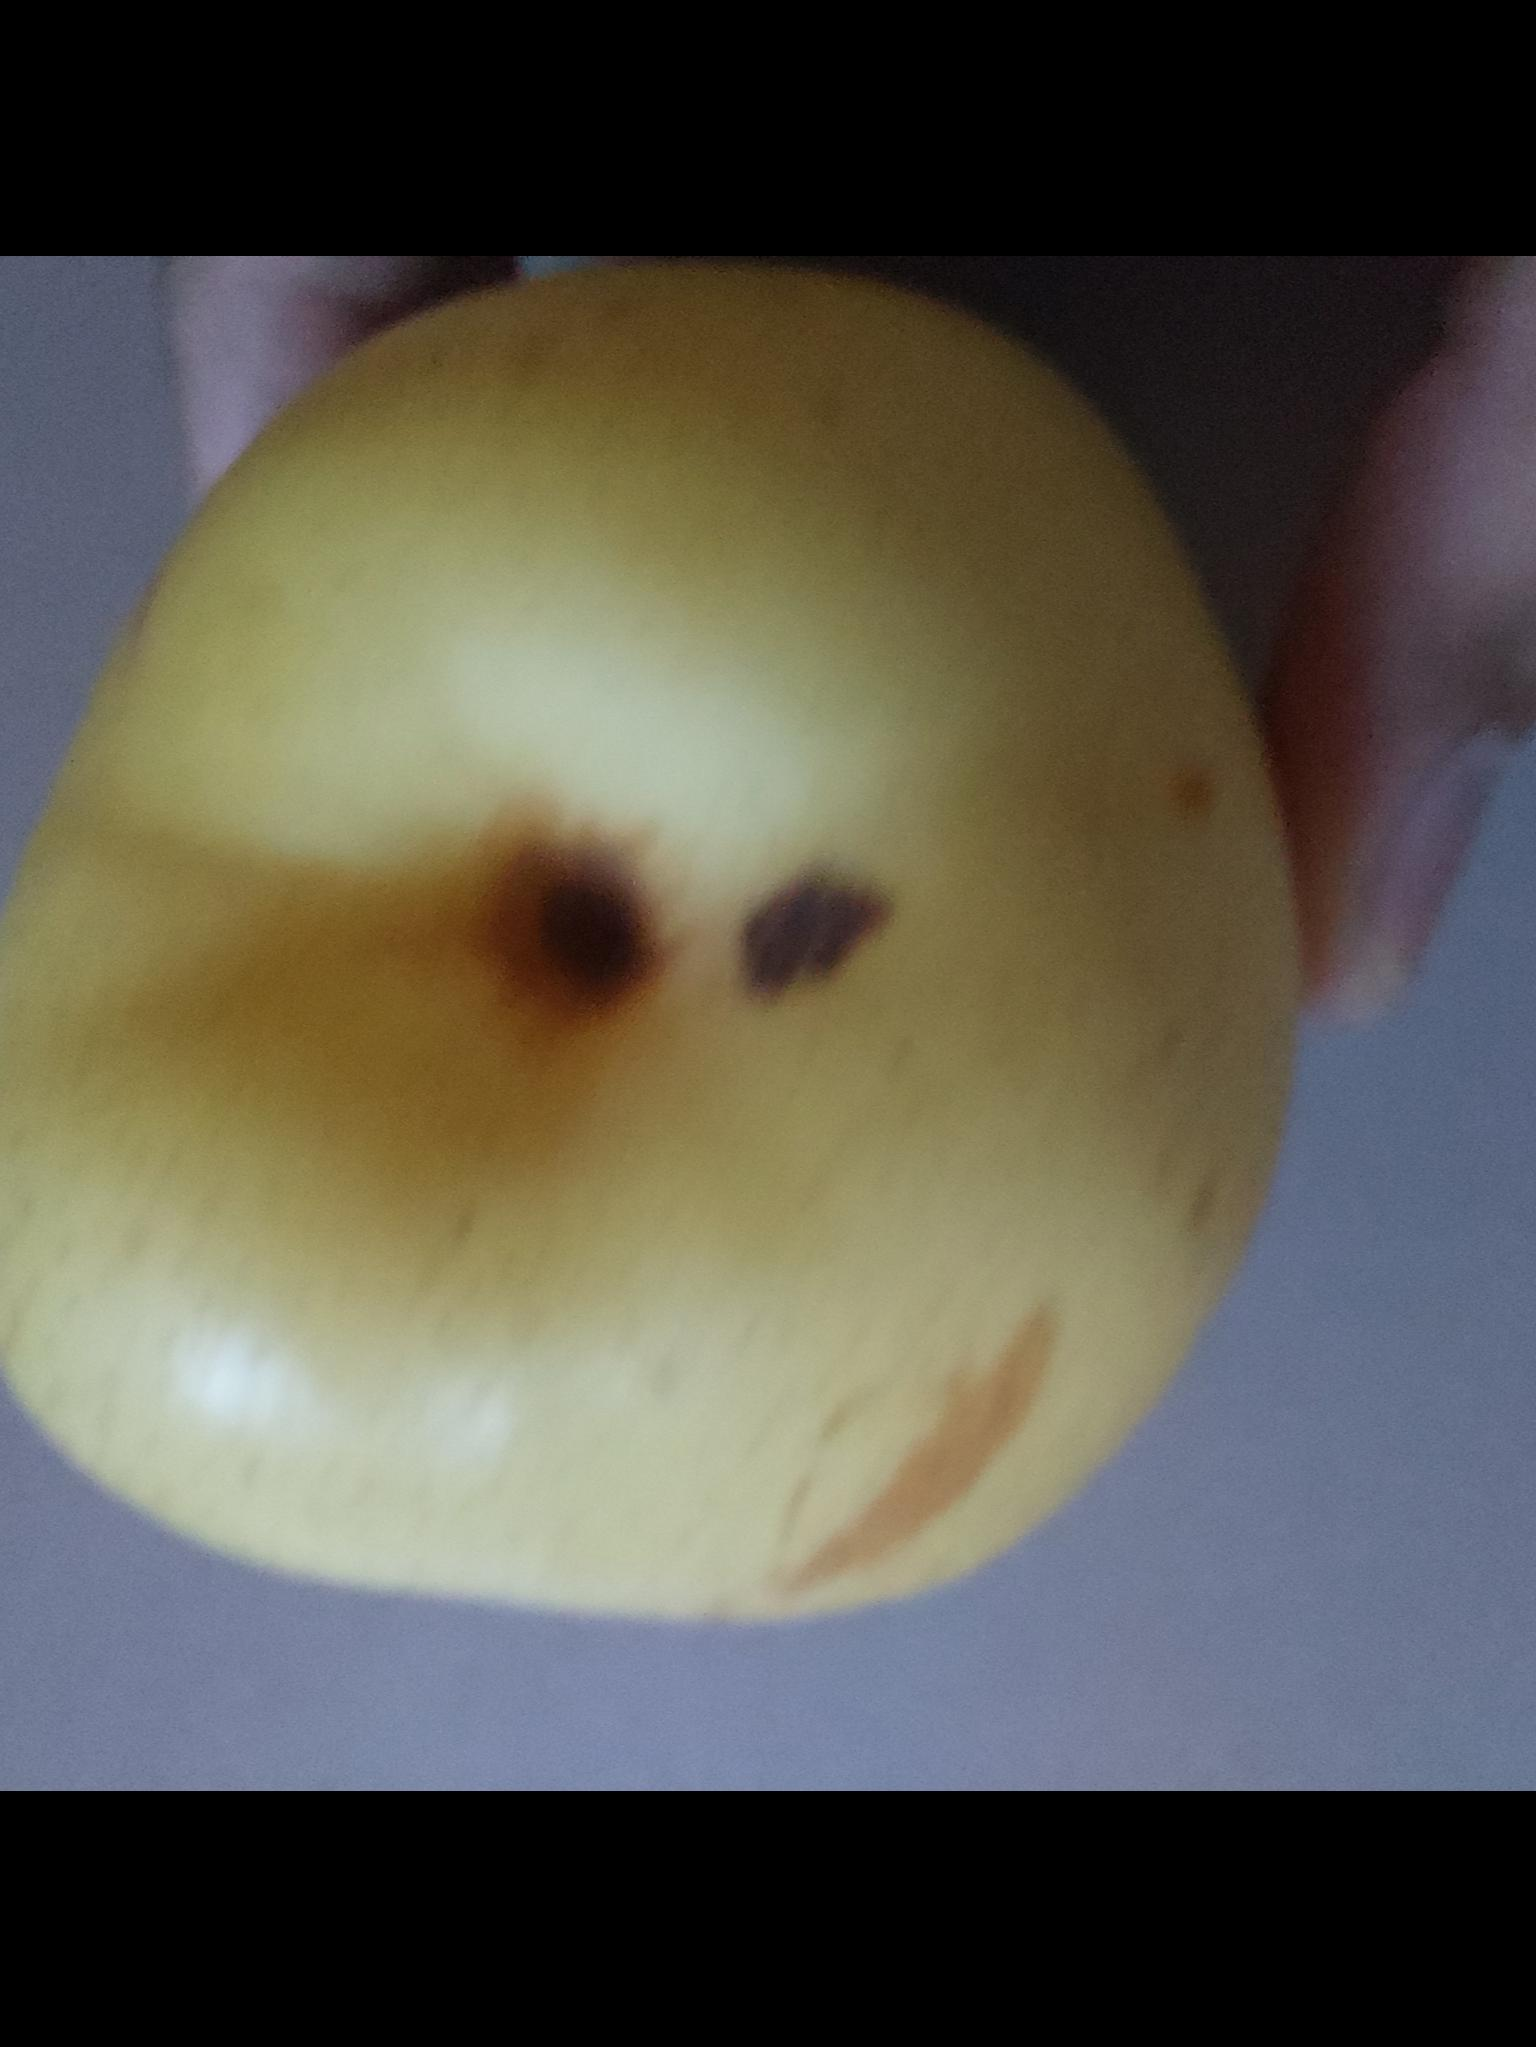Good Pear: (0, 274, 1300, 1631)
